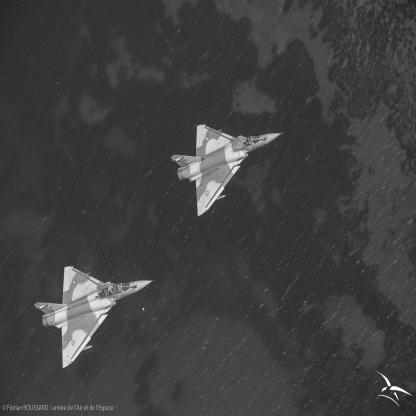Mirage2000: (35, 267, 156, 370), (171, 125, 285, 218)
